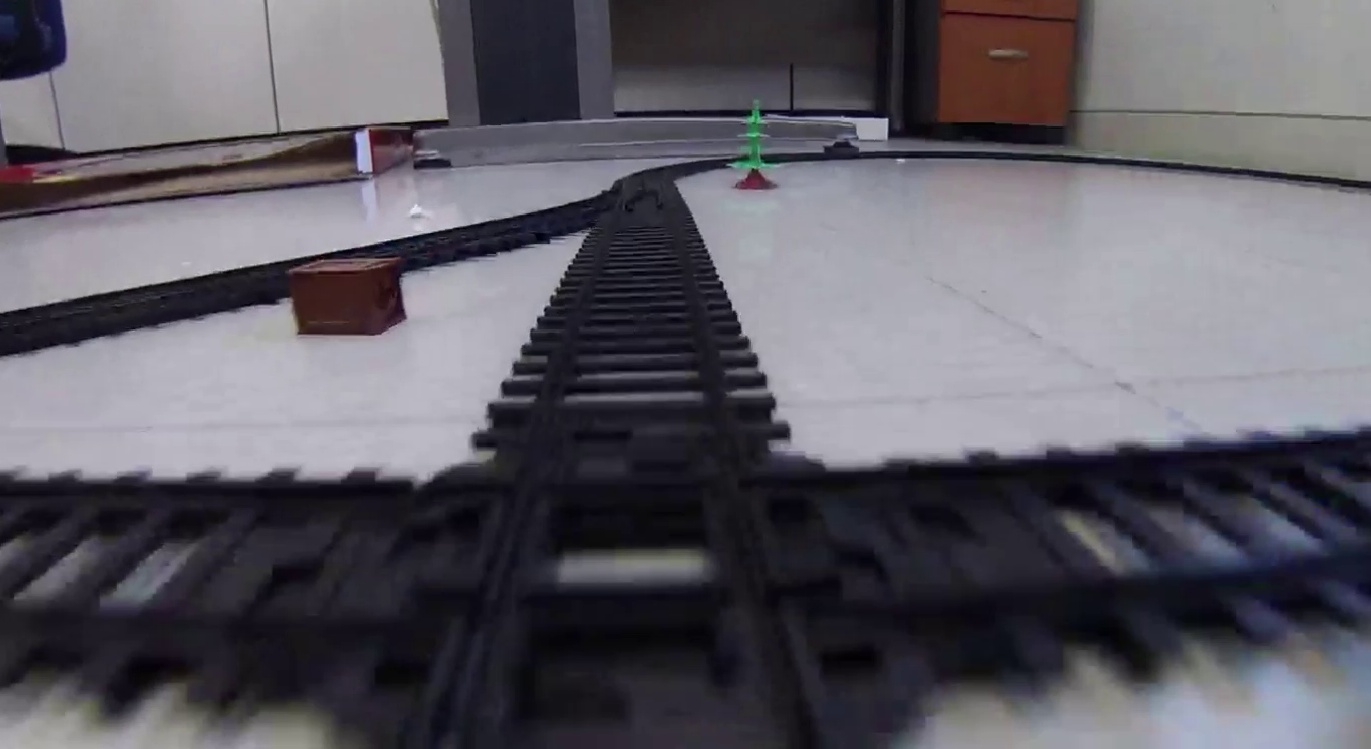box: (287, 256, 403, 334)
tree: (725, 98, 780, 190)
